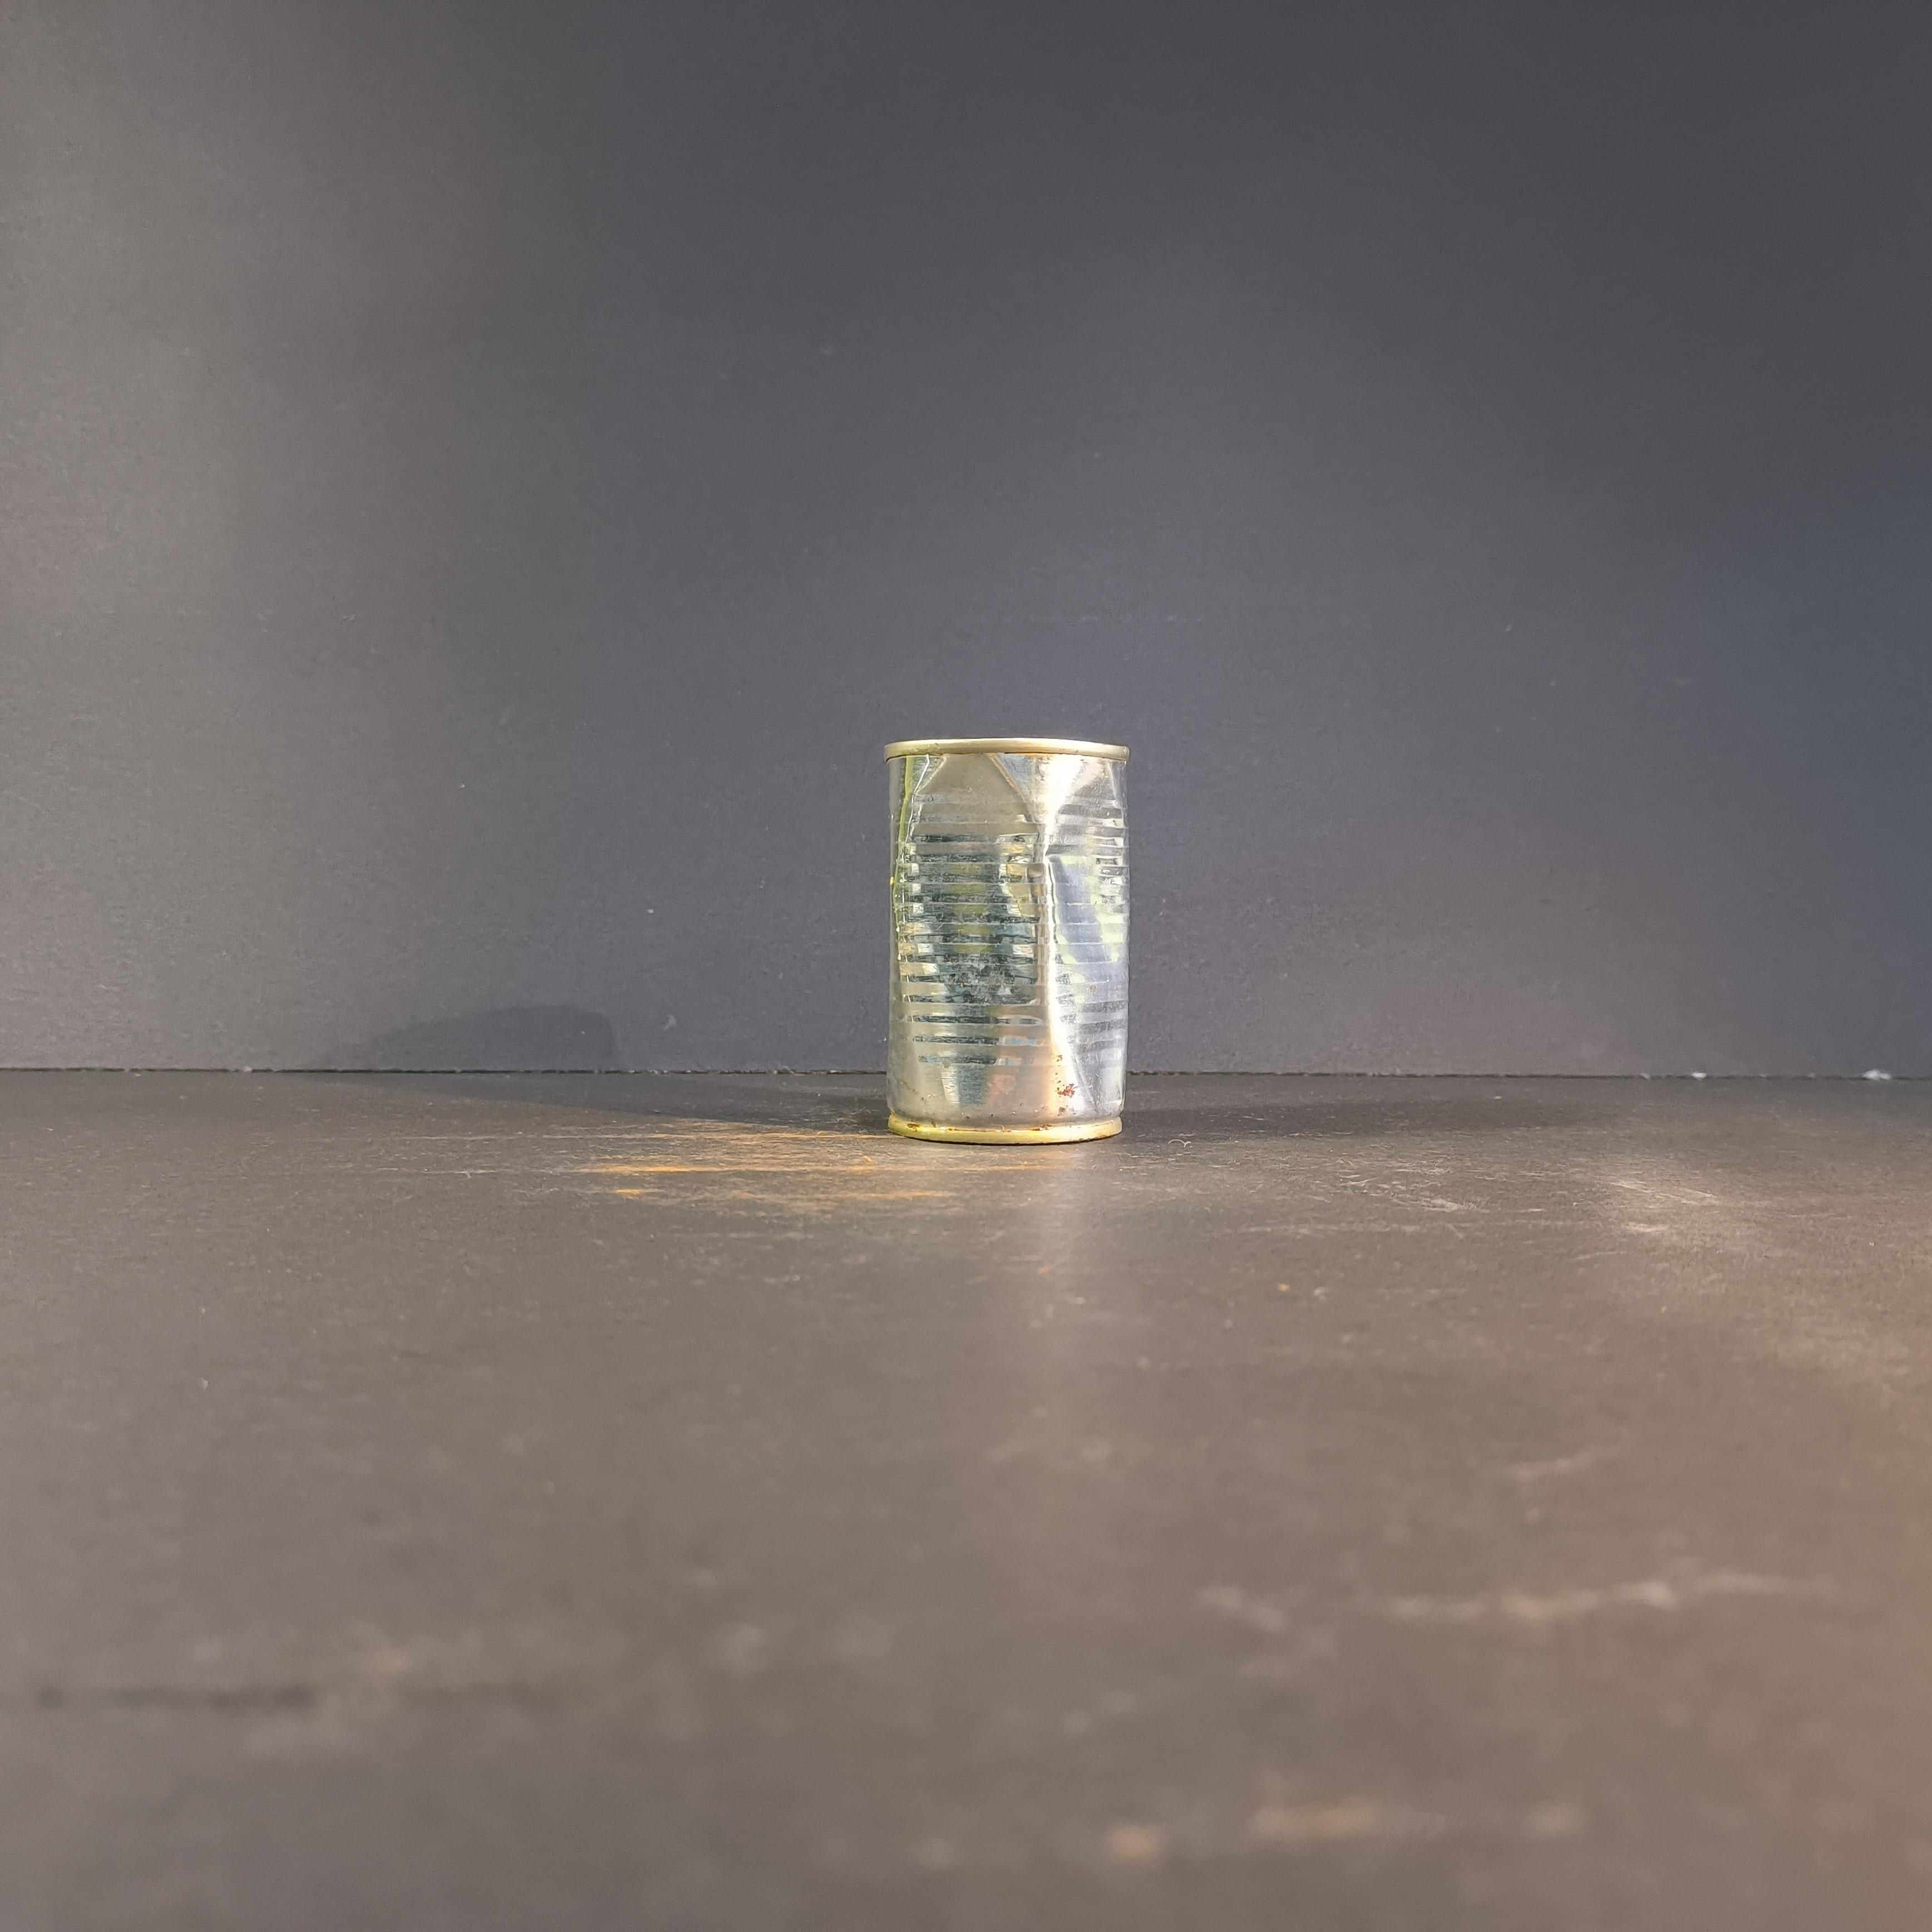Dented: (869, 701, 1162, 1166)
